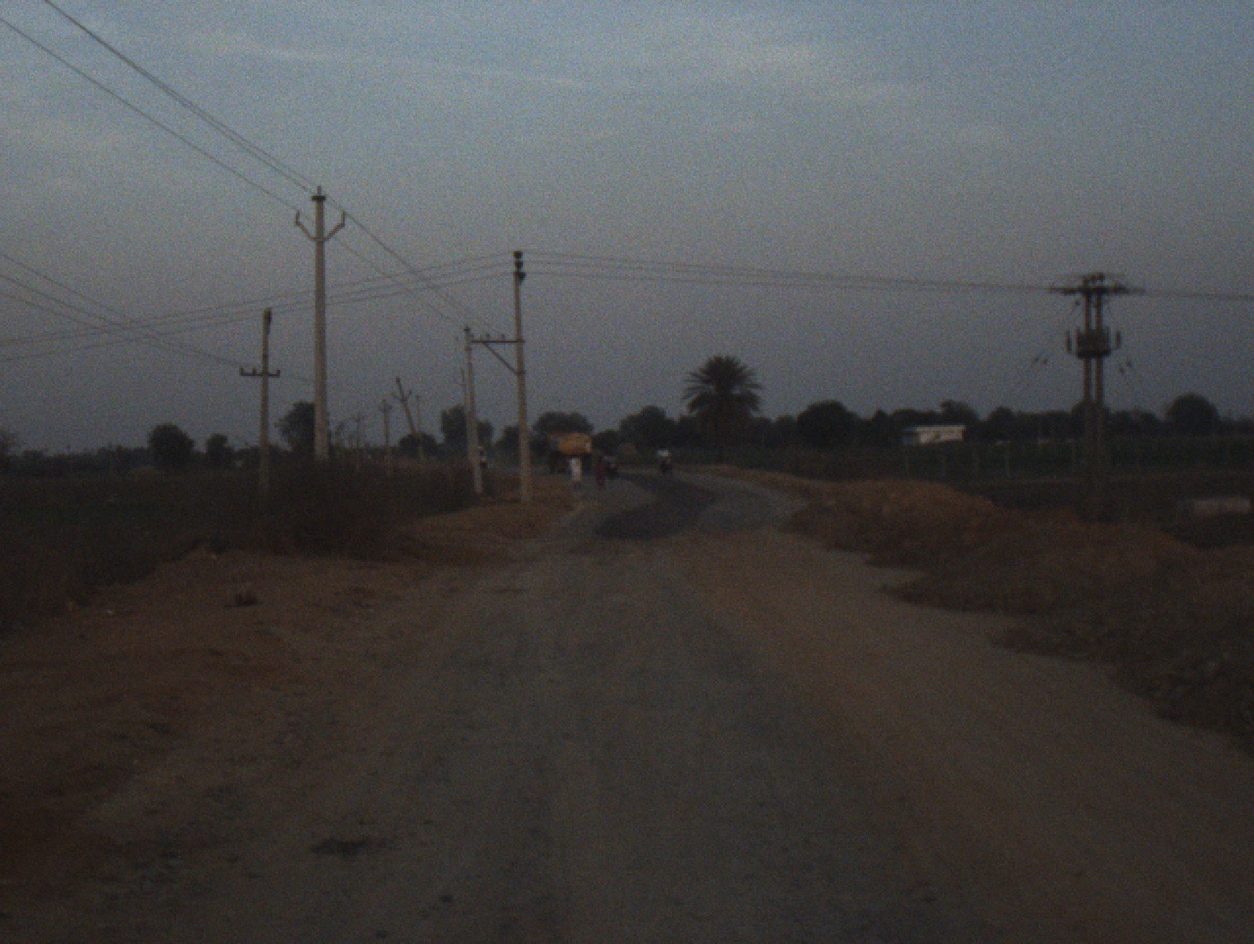car: (476, 440, 490, 467)
motorcycle: (658, 456, 674, 476)
person: (592, 446, 606, 492), (570, 448, 583, 487)
rider: (658, 444, 671, 457)
truck: (540, 418, 592, 472)
